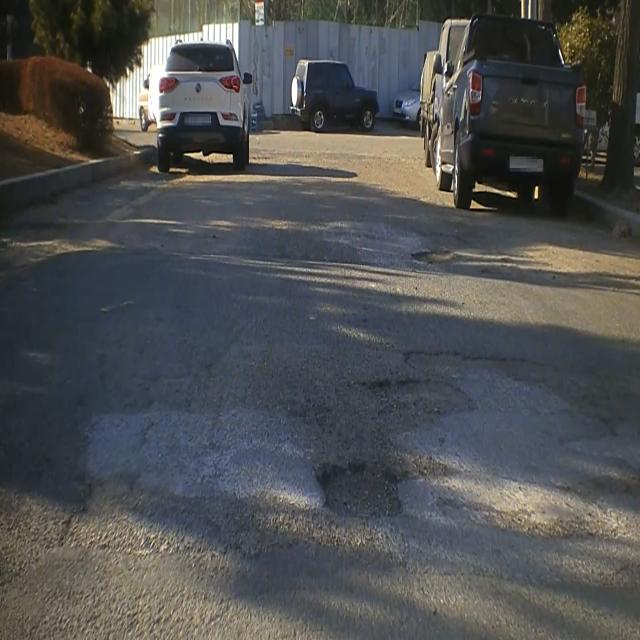Pothole: (346, 362, 476, 437), (304, 452, 409, 538), (400, 336, 559, 381)
